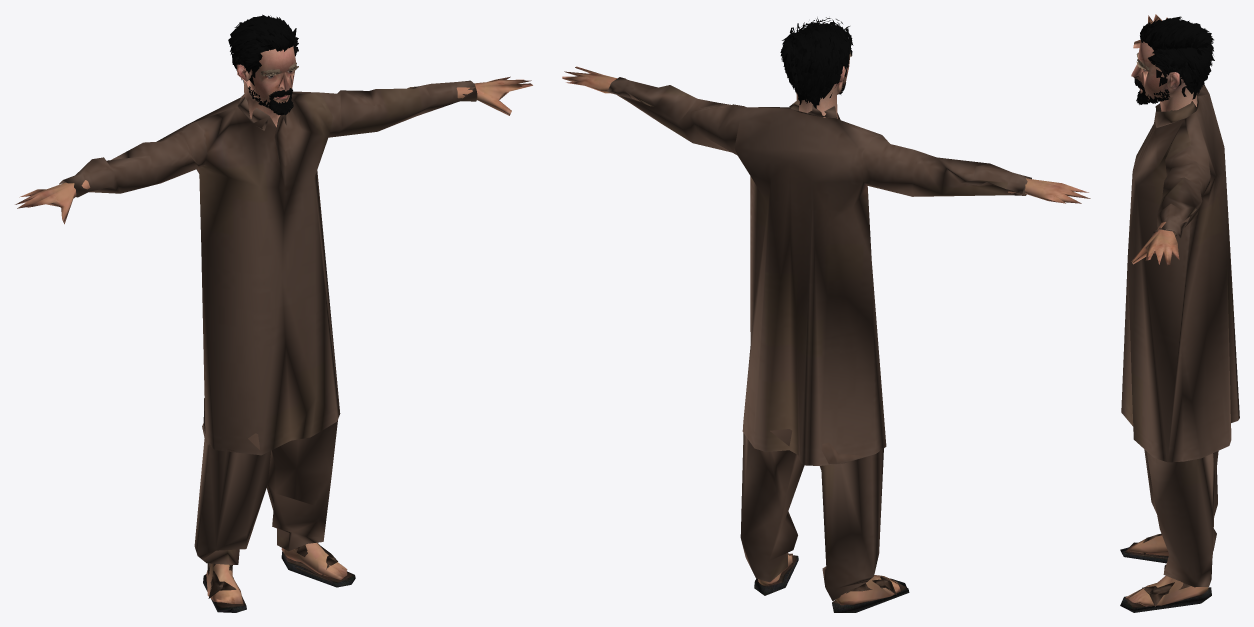
Rendered from c_man.glb.
The picture shows the model from 3 angles, left to right: view 1: azimuth 30°, elevation 25°; view 2: azimuth 150°, elevation 25°; view 3: azimuth 270°, elevation 25°; orthographic projection. The views are drawn at different scales.
Visible parts, largest first — view 1: Object_17.074_outfit.004_0, Object_7.001_AvatarBody.001_0, 8, 0; view 2: Object_17.074_outfit.004_0, 8, Object_7.001_AvatarBody.001_0, 0; view 3: Object_17.074_outfit.004_0, 8, Object_7.001_AvatarBody.001_0, 0.
Part boxes in pixels (x1,y1,x2,y2): Object_17.074_outfit.004_0: (59, 80, 477, 612); Object_7.001_AvatarBody.001_0: (15, 76, 532, 603); 8: (228, 14, 298, 115); 0: (236, 46, 296, 127); Object_17.074_outfit.004_0: (607, 77, 1031, 612); 8: (780, 17, 853, 108); Object_7.001_AvatarBody.001_0: (562, 66, 1090, 605); 0: (796, 54, 850, 118); Object_17.074_outfit.004_0: (1120, 84, 1239, 612); 8: (1134, 16, 1214, 104); Object_7.001_AvatarBody.001_0: (1125, 14, 1208, 606); 0: (1131, 41, 1197, 111).
Bounding box in the file's own units: 2.63 × 2.71 × 0.5289.
Materials: 12 (10 with a texture image).
